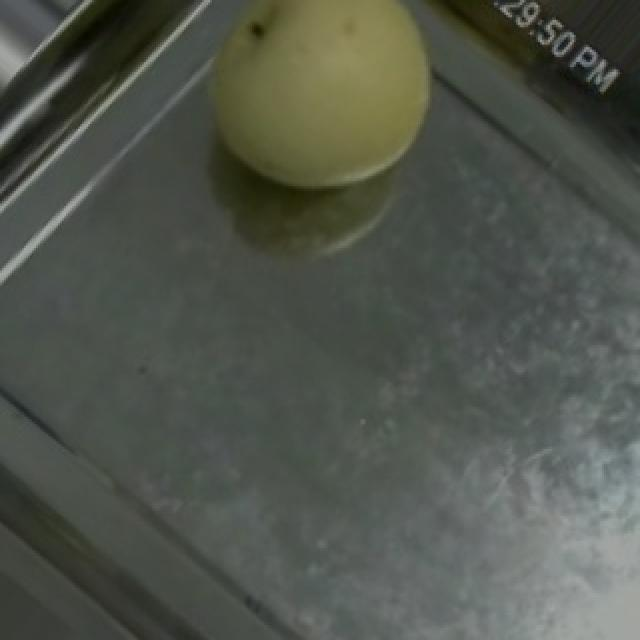Fruit: (164, 0, 474, 228)
